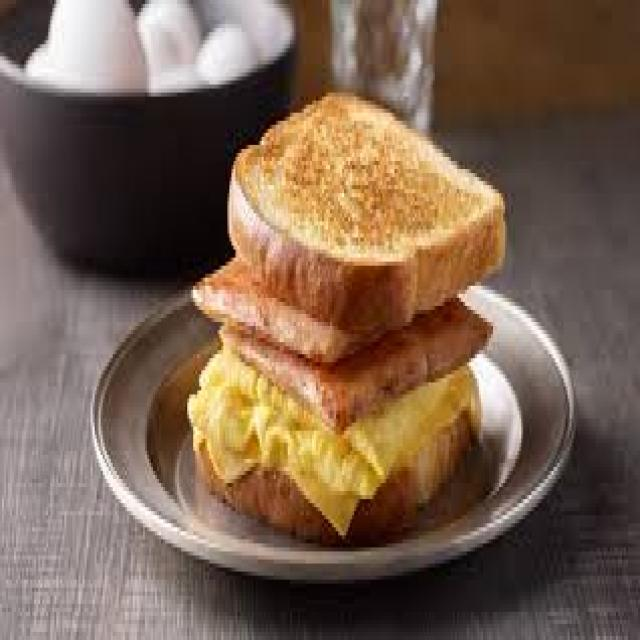Sandwich: (213, 109, 509, 545)
